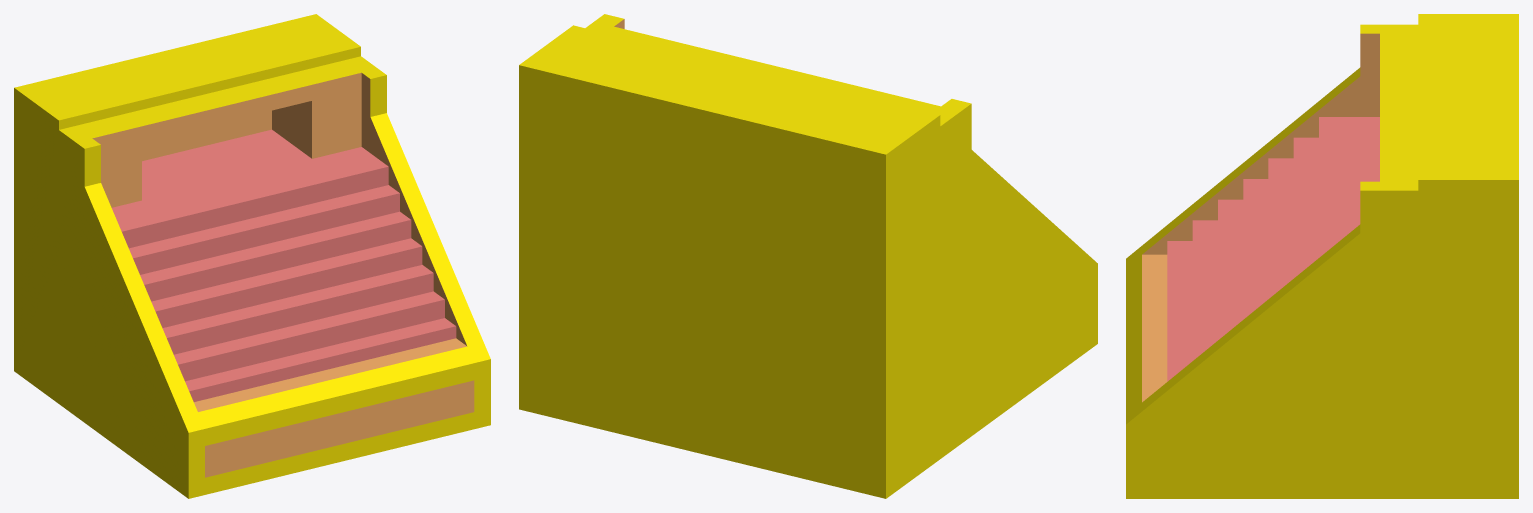
Rendered from grandStand.glb.
3 renders of one model, left to right at view 1: azimuth 30°, elevation 25°; view 2: azimuth 150°, elevation 25°; view 3: azimuth 270°, elevation 25°, orthographic. The views are drawn at different scales.
Parts seen in each view (by area): view 1: grandStand(Clone); view 2: grandStand(Clone); view 3: grandStand(Clone).
Boxes of the visible parts, x1,y1,x2,y2 form: grandStand(Clone): [14, 14, 490, 498]; grandStand(Clone): [519, 14, 1097, 498]; grandStand(Clone): [1126, 14, 1518, 498].
Size of the model in its own units: 1 by 0.8963 by 1.
